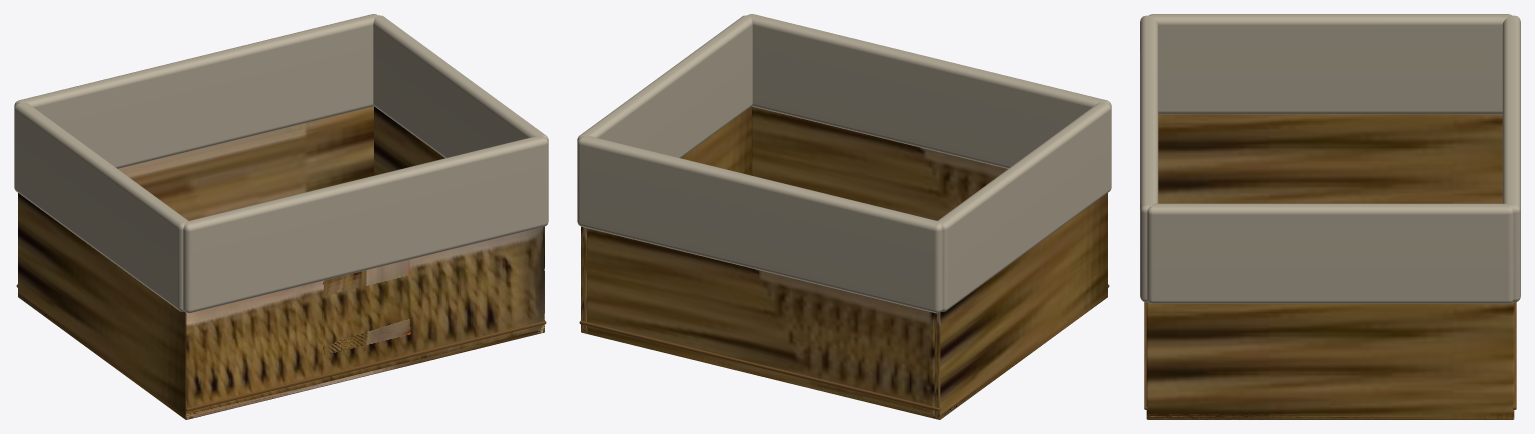
3 renders of one model, left to right at view 1: azimuth 30°, elevation 25°; view 2: azimuth 150°, elevation 25°; view 3: azimuth 270°, elevation 25°, orthographic. The views are drawn at different scales.
Parts seen in each view (by area): view 1: tea_basket__body; view 2: tea_basket__body; view 3: tea_basket__body.
Boxes of the visible parts, box(x1,y1,x2,y2) form: tea_basket__body: box(14, 14, 548, 419); tea_basket__body: box(577, 14, 1111, 419); tea_basket__body: box(1140, 14, 1520, 419).
Size of the model in its own units: 0.1676 by 0.0847 by 0.1367.
3 materials, 1 textured.
